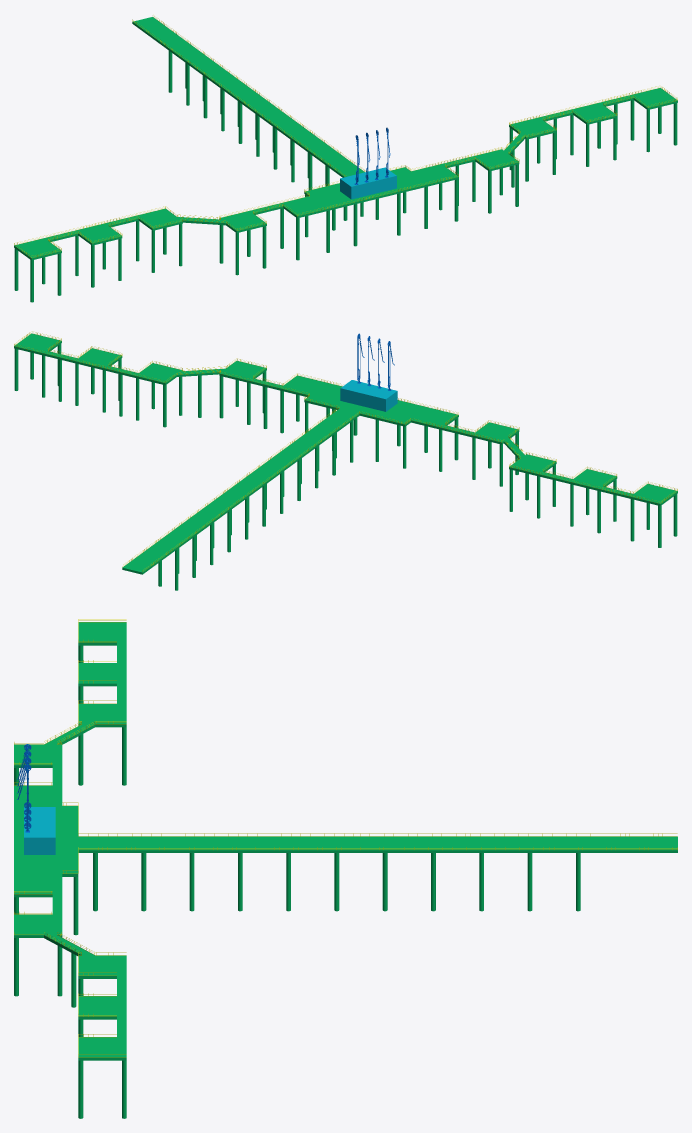
The model's file is 02-Offloading-Station.glb.
The picture shows the model from 3 angles, top to bottom: view 1: azimuth 30°, elevation 25°; view 2: azimuth 150°, elevation 25°; view 3: azimuth 270°, elevation 25°; orthographic projection. The views are drawn at different scales.
Parts seen in each view (by area): view 1: 3D Solid.012, ACPPSTRUCTURERAILING.034, 3D Solid, Loading Arms-Skid; view 2: 3D Solid.012, ACPPSTRUCTURERAILING.034, 3D Solid, Loading Arms-Skid; view 3: 3D Solid.012, ACPPSTRUCTURERAILING.034, 3D Solid.
Part boxes in pixels (<box>): 3D Solid.012: <box>14,17,677,302</box>; ACPPSTRUCTURERAILING.034: <box>14,16,677,258</box>; 3D Solid: <box>340,167,396,199</box>; Loading Arms-Skid: <box>354,127,390,184</box>; 3D Solid.012: <box>14,333,677,590</box>; ACPPSTRUCTURERAILING.034: <box>14,331,677,571</box>; 3D Solid: <box>340,380,397,411</box>; Loading Arms-Skid: <box>357,333,394,390</box>; 3D Solid.012: <box>14,622,677,1118</box>; ACPPSTRUCTURERAILING.034: <box>14,619,677,1057</box>; 3D Solid: <box>24,807,55,854</box>.
Bounding box in the file's own units: 320 × 50.19 × 206.
